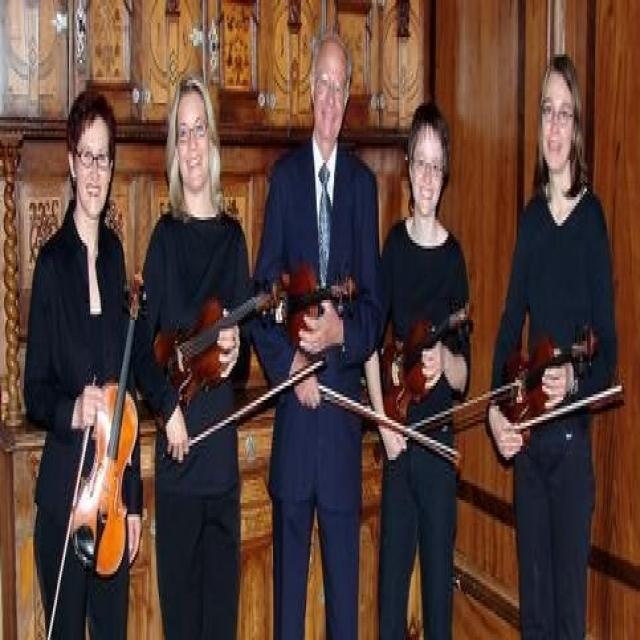violin: (69, 268, 149, 578), (150, 278, 280, 430), (379, 300, 473, 419), (502, 322, 596, 434), (279, 260, 357, 343)
